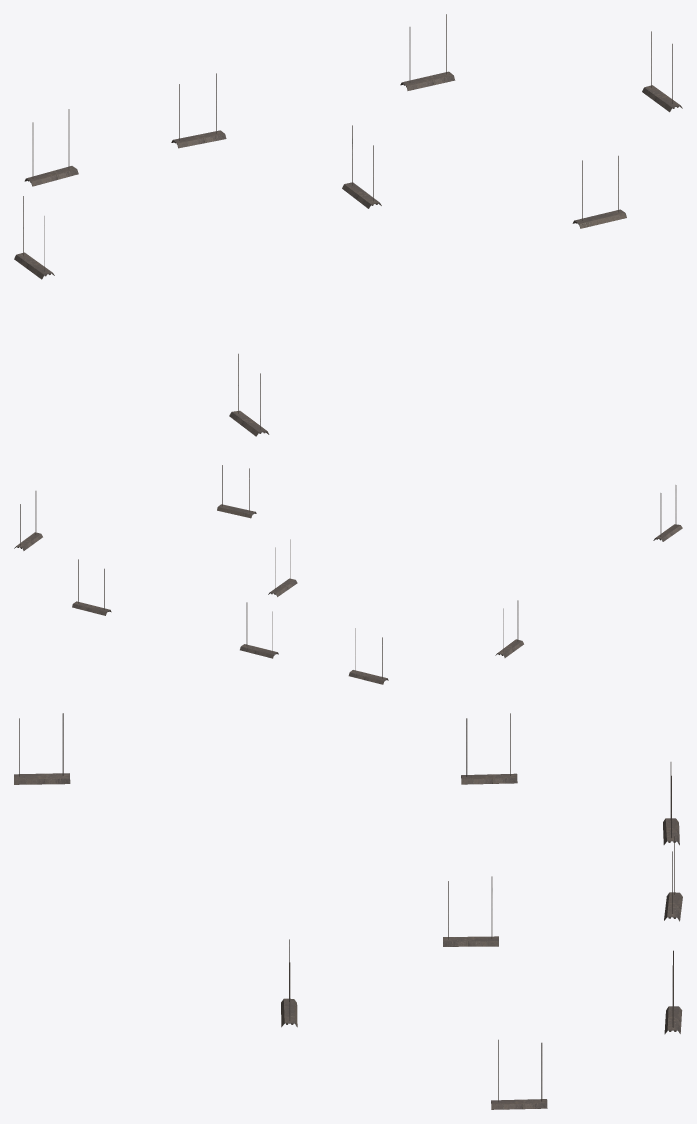
The model's file is Corridor_00_01.fbx.
3 views of the same model, one above another, from view 1: azimuth 30°, elevation 25°; view 2: azimuth 150°, elevation 25°; view 3: azimuth 270°, elevation 25° (orthographic). The views are drawn at different scales.
Parts seen in each view (by area): view 1: Corridor_00_01; view 2: Corridor_00_01; view 3: Corridor_00_01.
Part boxes in pixels (<box>): Corridor_00_01: <box>14,14,682,436</box>; Corridor_00_01: <box>14,465,682,684</box>; Corridor_00_01: <box>14,713,682,1109</box>.
Bounding box in the file's own units: 3431 × 344 × 2916.
